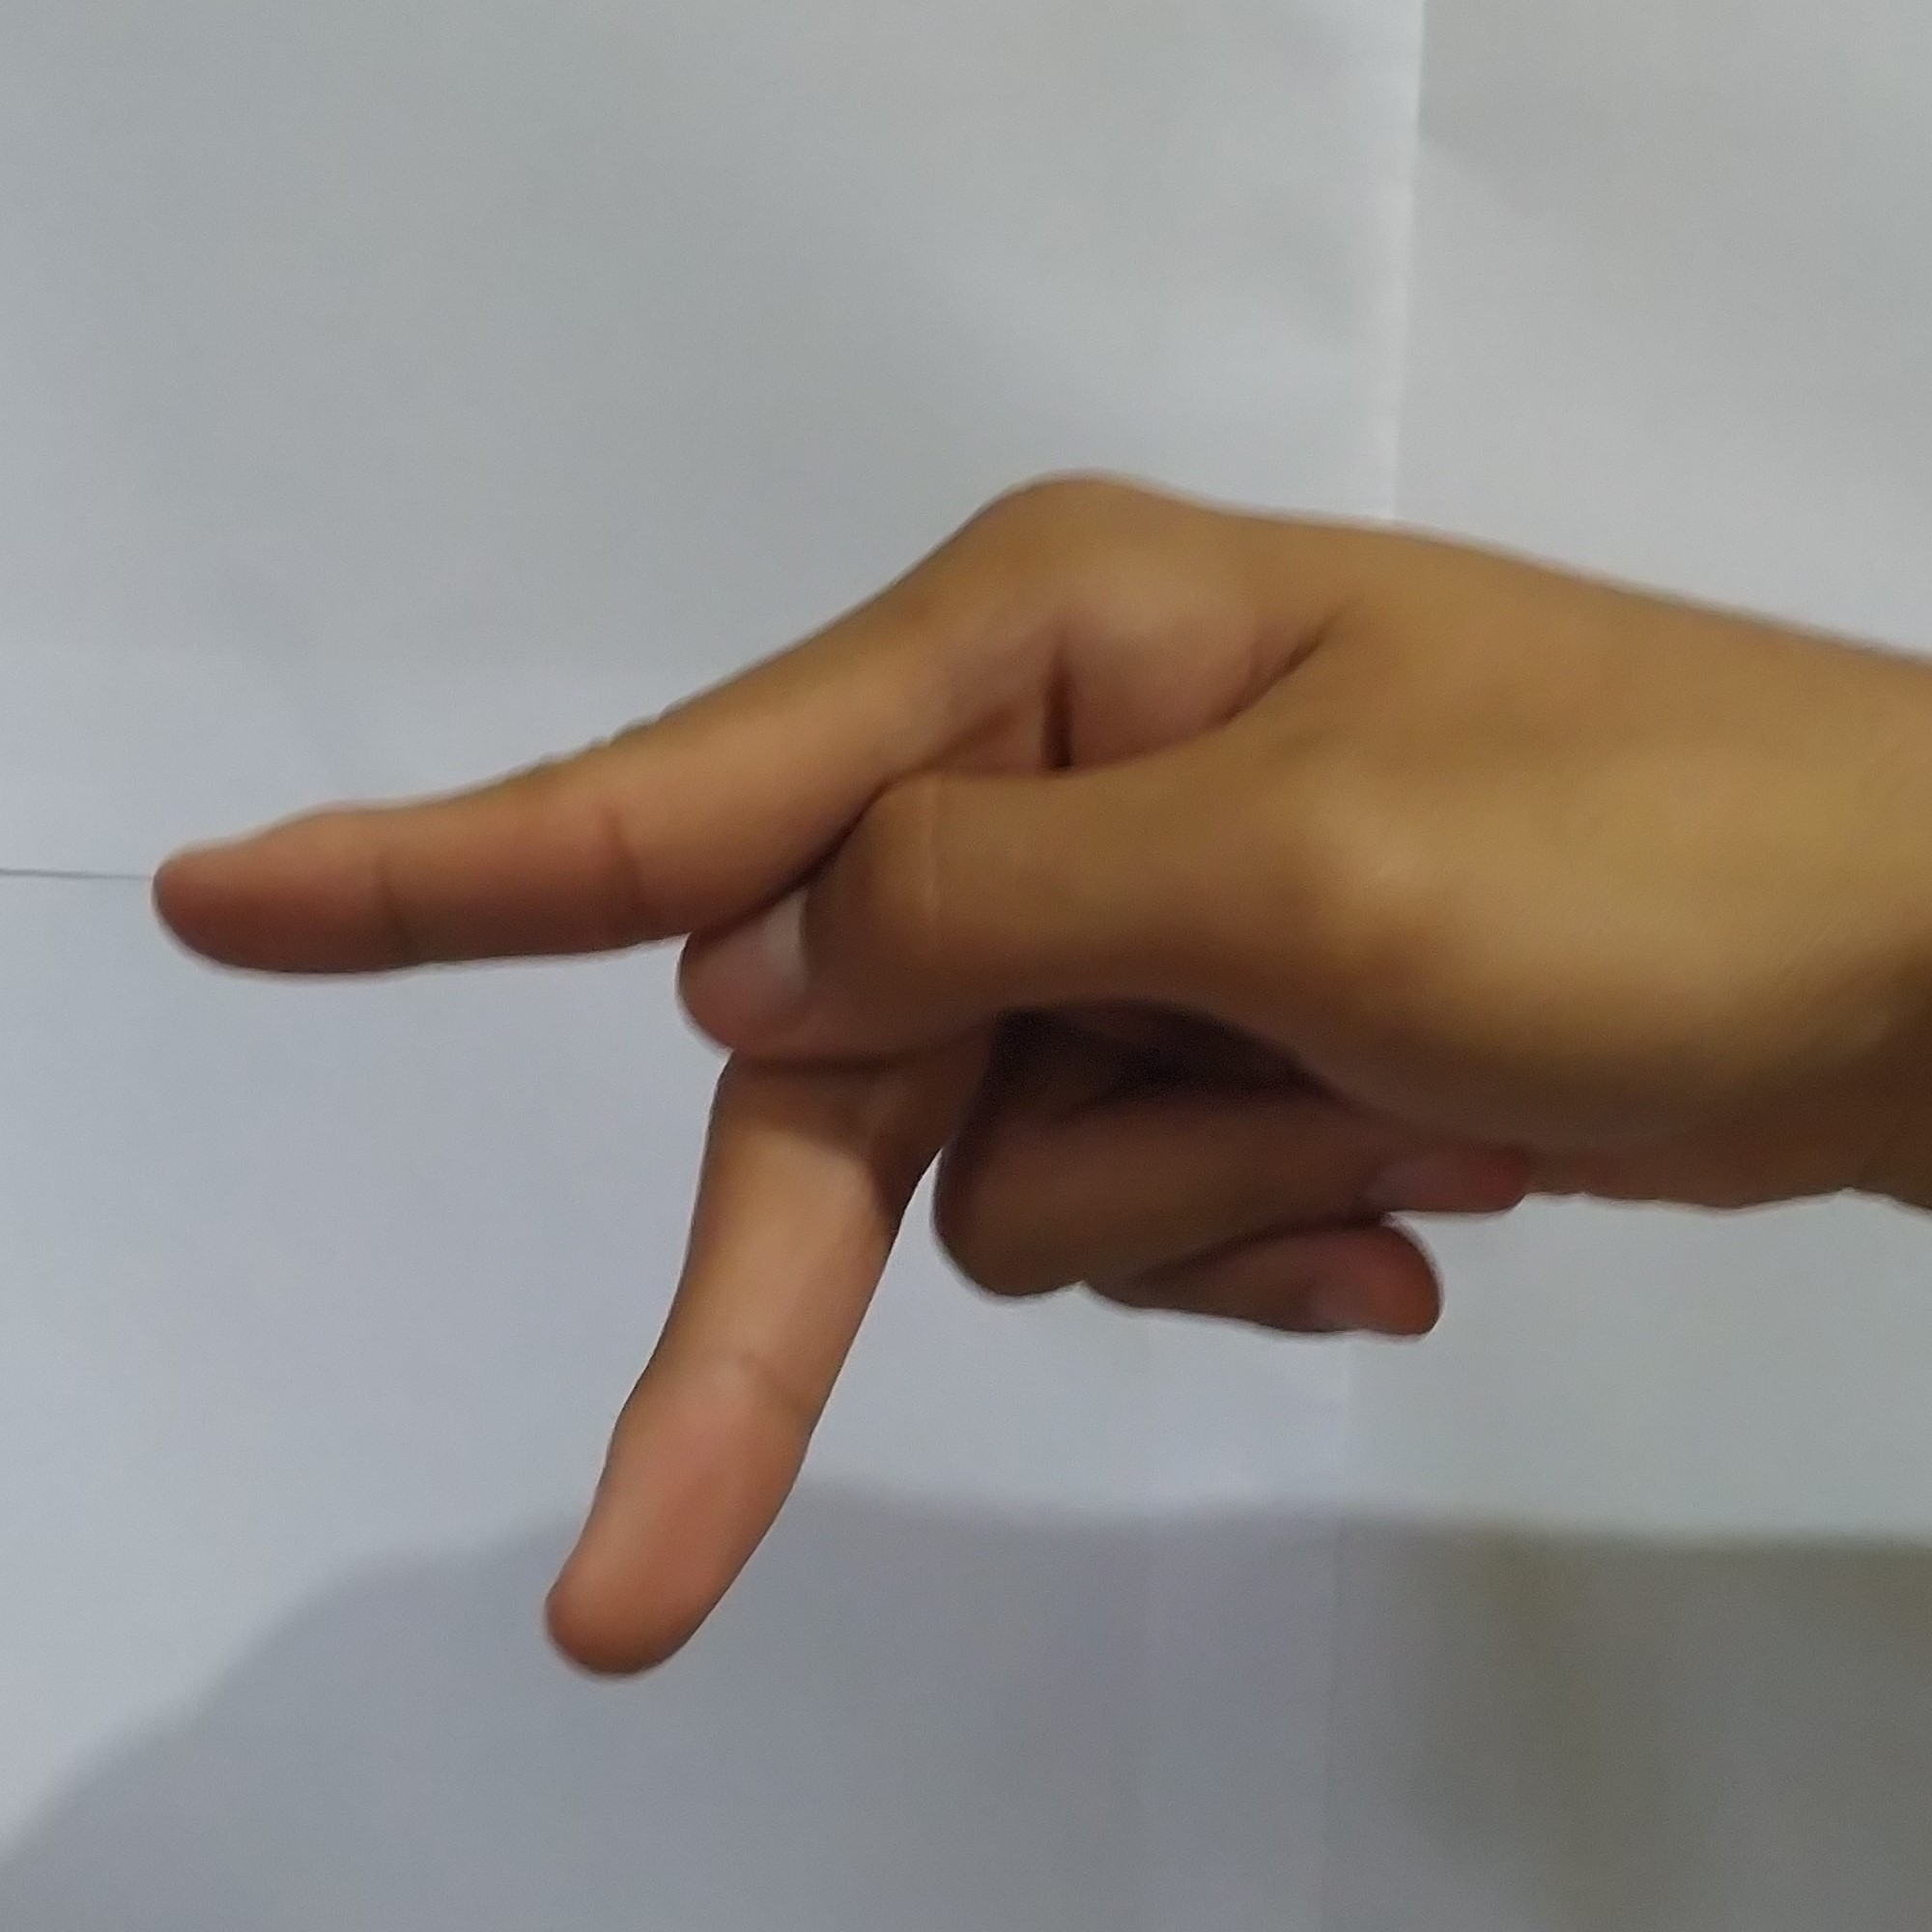P: (117, 444, 1884, 1709)
